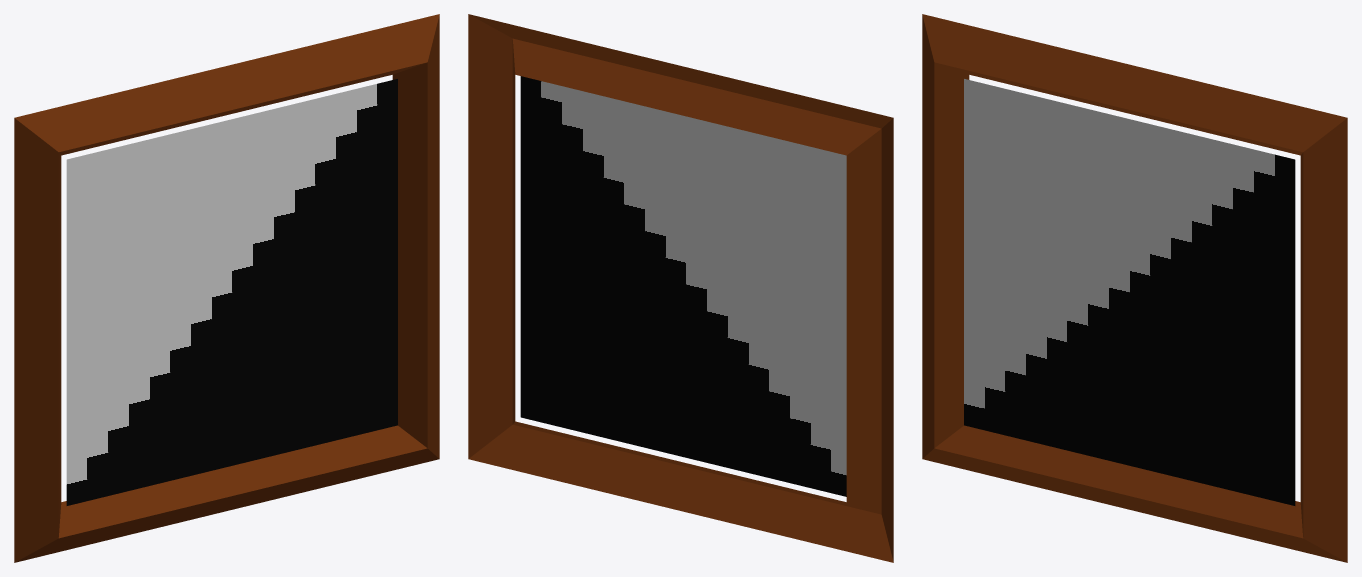
Rendered from stairsPainting1.glb.
3 renders of one model, left to right at view 1: azimuth 30°, elevation 25°; view 2: azimuth 150°, elevation 25°; view 3: azimuth 330°, elevation 25°, orthographic.
Visible parts, largest first — view 1: Canvas.001, Frame.004; view 2: Canvas.001, Frame.004; view 3: Canvas.001, Frame.004.
Boxes of the visible parts, x1,y1,x2,y2 form: Canvas.001: (66, 79, 397, 505); Frame.004: (14, 14, 439, 562); Canvas.001: (520, 76, 846, 496); Frame.004: (468, 14, 893, 562); Canvas.001: (964, 79, 1295, 505); Frame.004: (922, 14, 1347, 562).
Bounding box in the file's own units: 1.28 × 1.28 × 0.0849.
2 materials, 1 textured.
